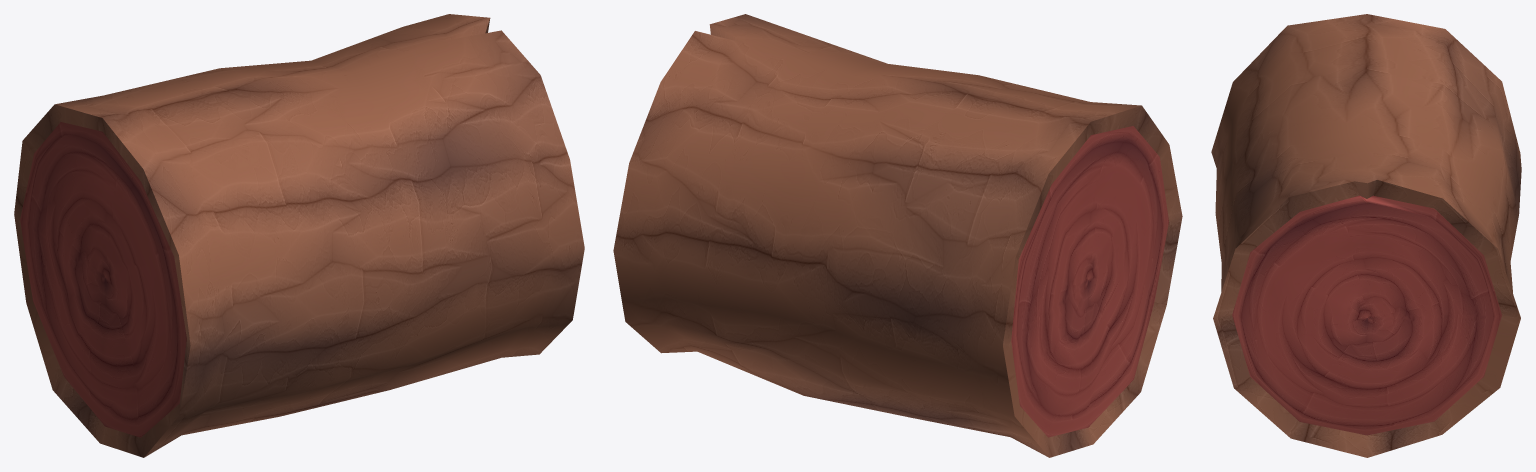
File: log.glb
The picture shows the model from 3 angles, left to right: view 1: azimuth 30°, elevation 25°; view 2: azimuth 150°, elevation 25°; view 3: azimuth 270°, elevation 25°; orthographic projection. The views are drawn at different scales.
Visible parts, largest first — view 1: Cylinder; view 2: Cylinder; view 3: Cylinder.
Part boxes in pixels (box(x1,y1,x2,y2)): Cylinder: box(14, 14, 584, 457); Cylinder: box(613, 14, 1182, 457); Cylinder: box(1211, 14, 1521, 457).
Size of the model in its own units: 1.99 by 1.55 by 1.55.
Materials: 2 (2 with a texture image).
